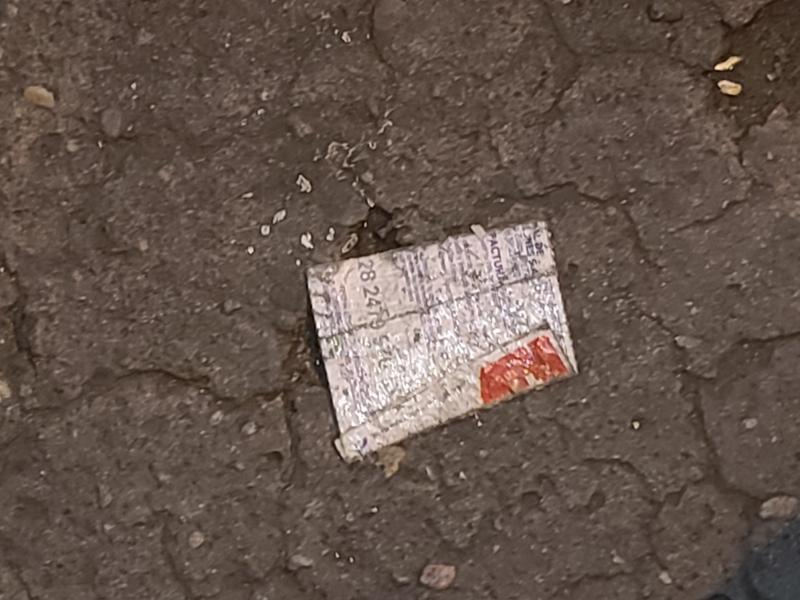papel: (307, 222, 578, 463)
